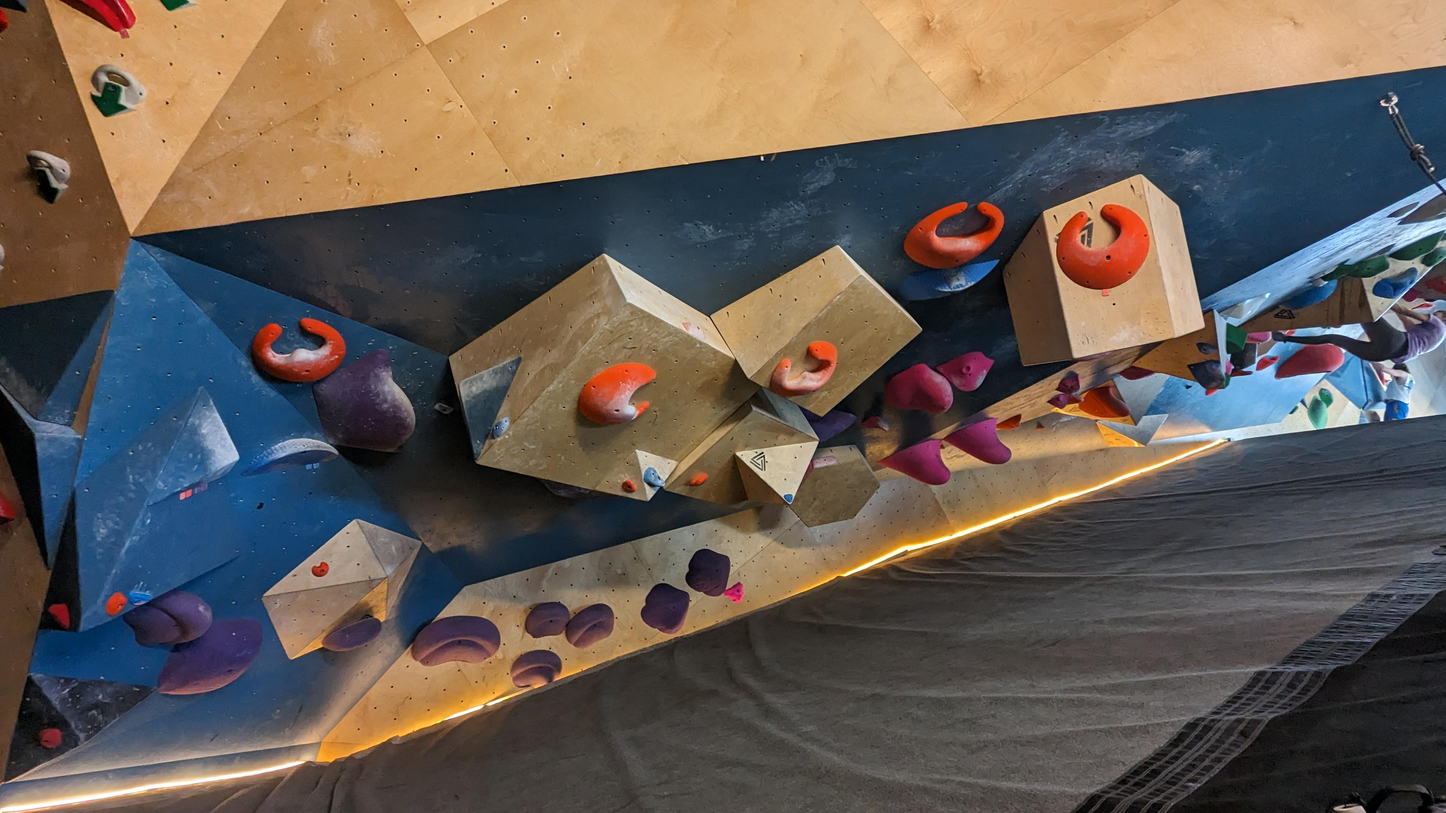black-hold: (300, 346, 429, 478), (142, 600, 279, 717), (895, 181, 1015, 287), (1047, 196, 1160, 299), (119, 579, 220, 661), (248, 313, 350, 389), (761, 332, 850, 412), (574, 353, 658, 433), (77, 53, 152, 129), (409, 613, 502, 668), (893, 259, 1005, 304), (873, 437, 953, 499), (236, 431, 341, 478), (941, 415, 1015, 481), (10, 140, 79, 207), (883, 359, 958, 417), (933, 336, 996, 398), (558, 597, 623, 654), (636, 578, 695, 638), (504, 642, 567, 695), (54, 0, 141, 38), (680, 544, 737, 601), (318, 614, 387, 659), (1277, 275, 1344, 320), (1271, 341, 1347, 380), (795, 406, 858, 446), (1387, 229, 1446, 269), (1369, 266, 1424, 305), (522, 599, 573, 640), (1077, 385, 1132, 420), (1343, 249, 1392, 288), (1187, 357, 1227, 394), (1319, 257, 1360, 286), (46, 599, 77, 631), (1118, 361, 1159, 383), (101, 589, 131, 619), (639, 464, 668, 495), (1306, 394, 1329, 431), (722, 579, 751, 608), (1052, 374, 1085, 399), (1419, 242, 1446, 272), (487, 414, 514, 442), (1226, 322, 1248, 354), (1252, 350, 1282, 373), (993, 413, 1025, 434), (860, 413, 892, 433), (1047, 391, 1074, 413), (1314, 385, 1338, 409), (1070, 351, 1113, 364), (0, 491, 15, 527), (38, 727, 62, 749), (309, 559, 332, 581), (127, 590, 154, 608), (687, 470, 711, 490), (796, 462, 816, 485), (1194, 340, 1218, 358), (811, 454, 838, 469), (619, 478, 638, 497), (1245, 332, 1271, 344), (0, 7, 9, 34), (1223, 372, 1231, 389), (1225, 359, 1232, 376), (782, 493, 793, 503), (1036, 426, 1044, 431)
